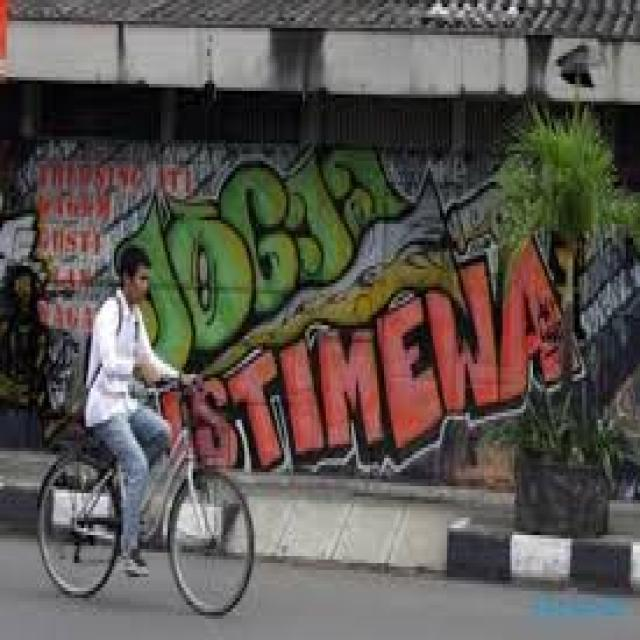-: (156, 239, 586, 479), (116, 150, 418, 372), (34, 150, 195, 336)
